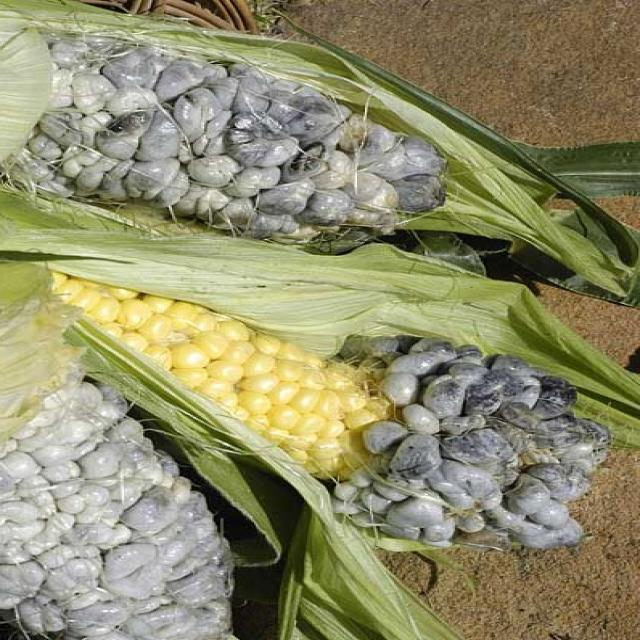Leaf_Scald: (0, 0, 474, 247), (0, 298, 273, 640), (313, 313, 640, 571)
